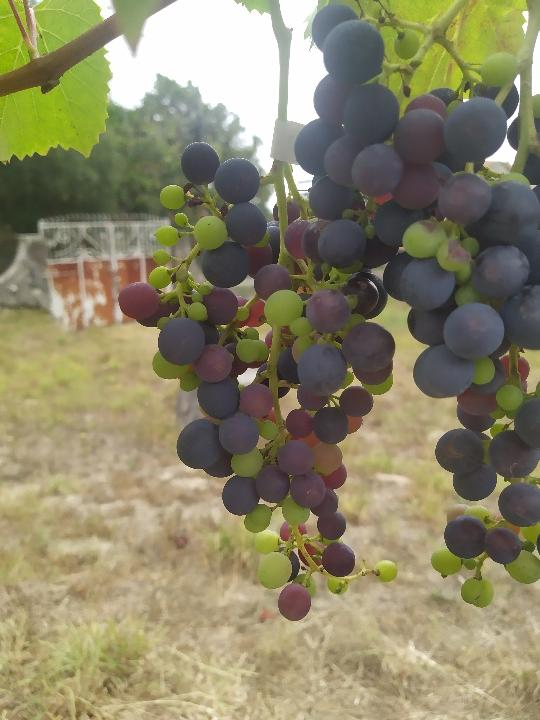grape: (291, 5, 540, 610), (114, 136, 400, 625)
